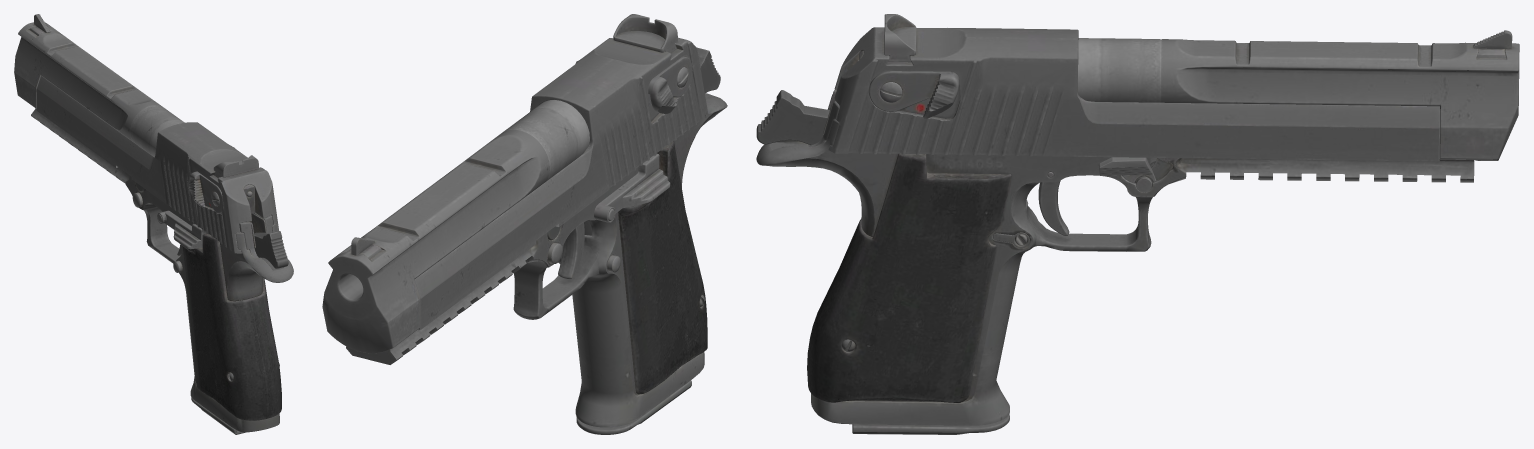
The model's file is deagle_r.glb.
3 views of the same model, side by side, from view 1: azimuth 30°, elevation 25°; view 2: azimuth 150°, elevation 25°; view 3: azimuth 270°, elevation 25° (orthographic). The views are drawn at different scales.
Parts seen in each view (by area): view 1: v_deagle_R; view 2: v_deagle_R; view 3: v_deagle_R.
Part boxes in pixels (x1,y1,x2,y2): v_deagle_R: (14,14,293,434); v_deagle_R: (322,14,727,434); v_deagle_R: (756,14,1519,434).
Bounding box in the file's own units: 0.0442 × 0.1694 × 0.2939.
1 material, 1 textured.
